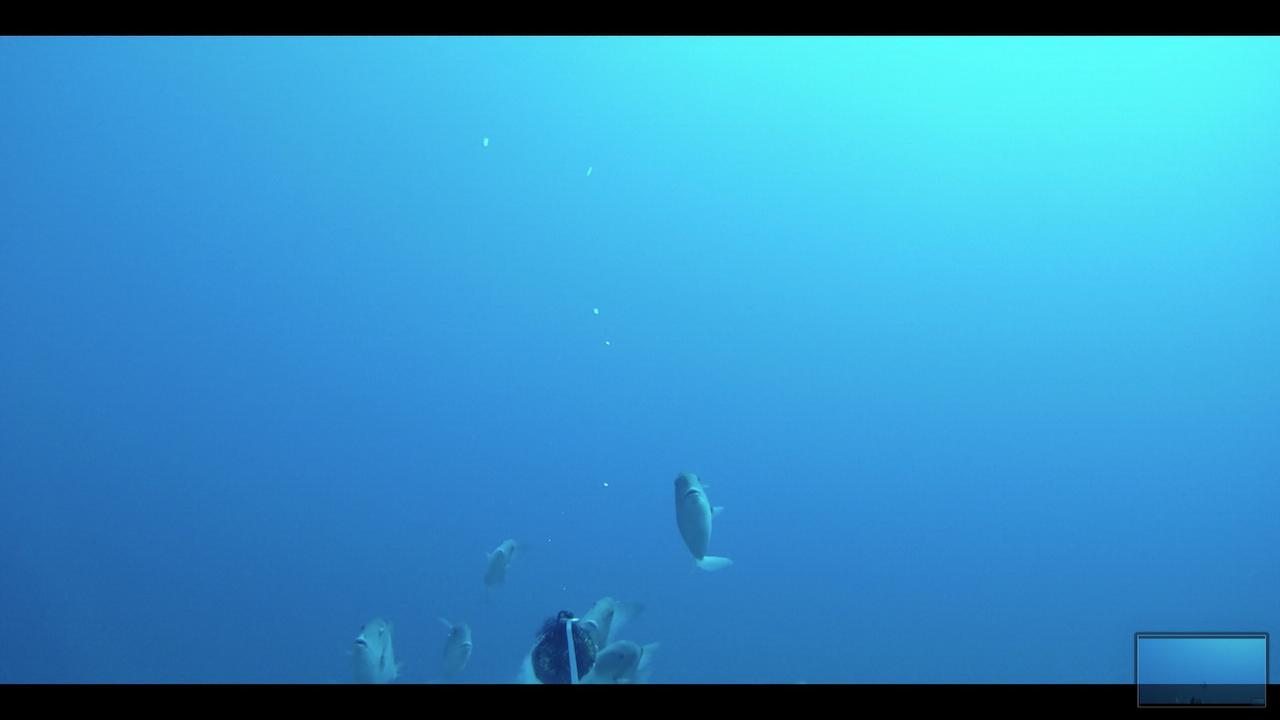balistes: (655, 464, 742, 576), (416, 604, 486, 676), (338, 613, 408, 680), (475, 532, 530, 590)
